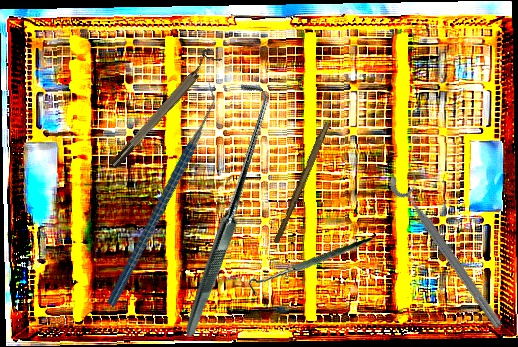Chopper: (45, 79, 277, 308)
Fixation Ring: (385, 164, 516, 333), (103, 45, 223, 171)
Hook Surgical: (90, 76, 354, 339), (247, 224, 373, 309)
Scalpel Handle: (272, 120, 331, 245)
